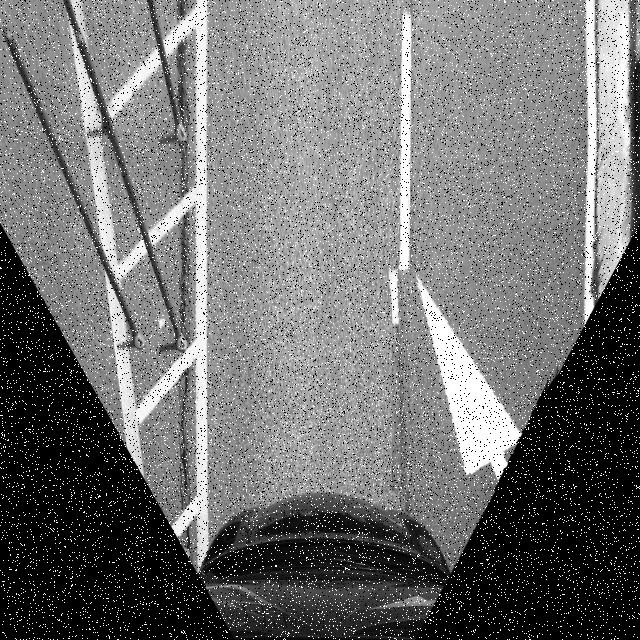chang_lane_left: (392, 258, 564, 491)
